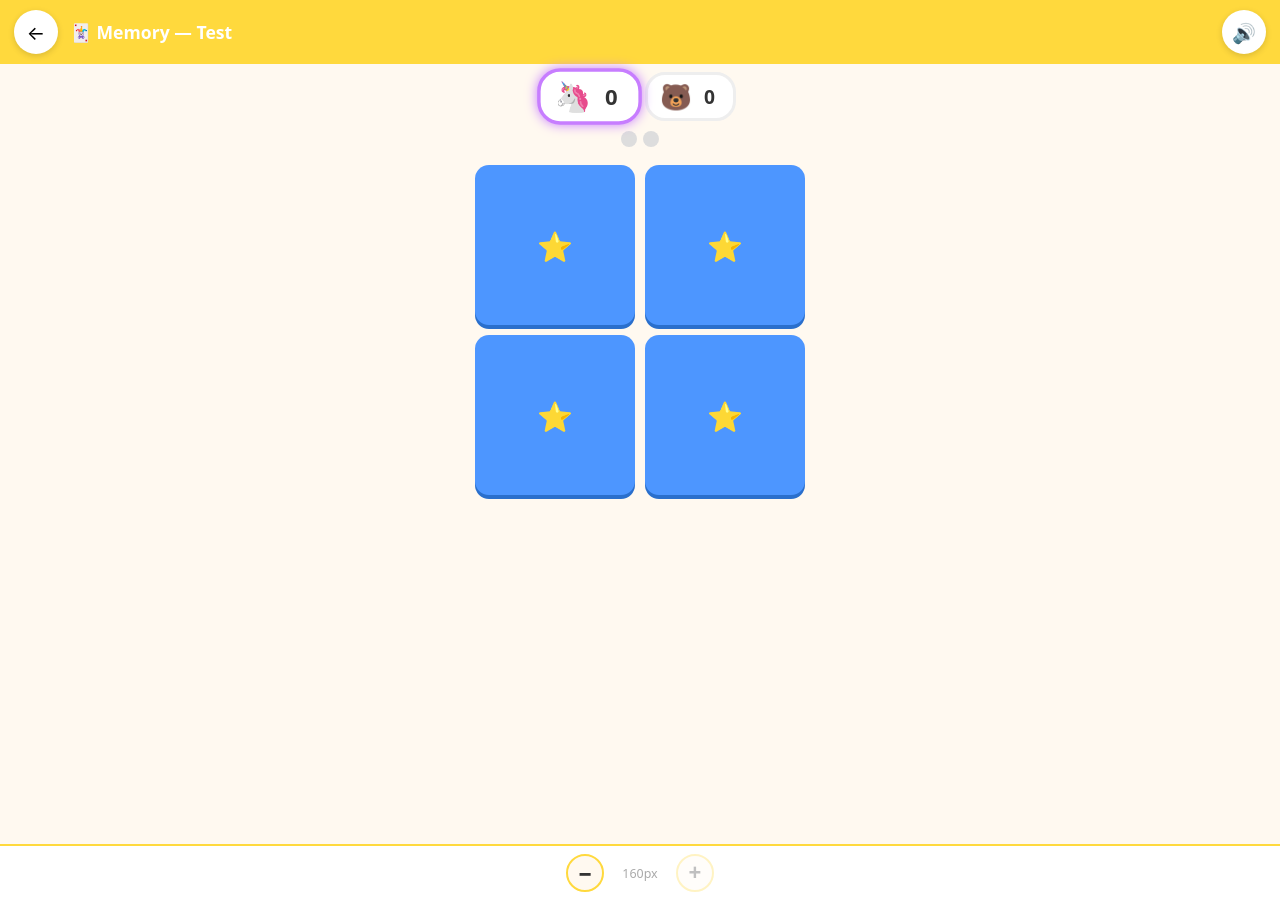
Test: MemoryGame › names the winner at the end
The image size is (1280, 900).
Click the 3rd button "⭐".
click(555, 415)  # box [475,335,635,495]
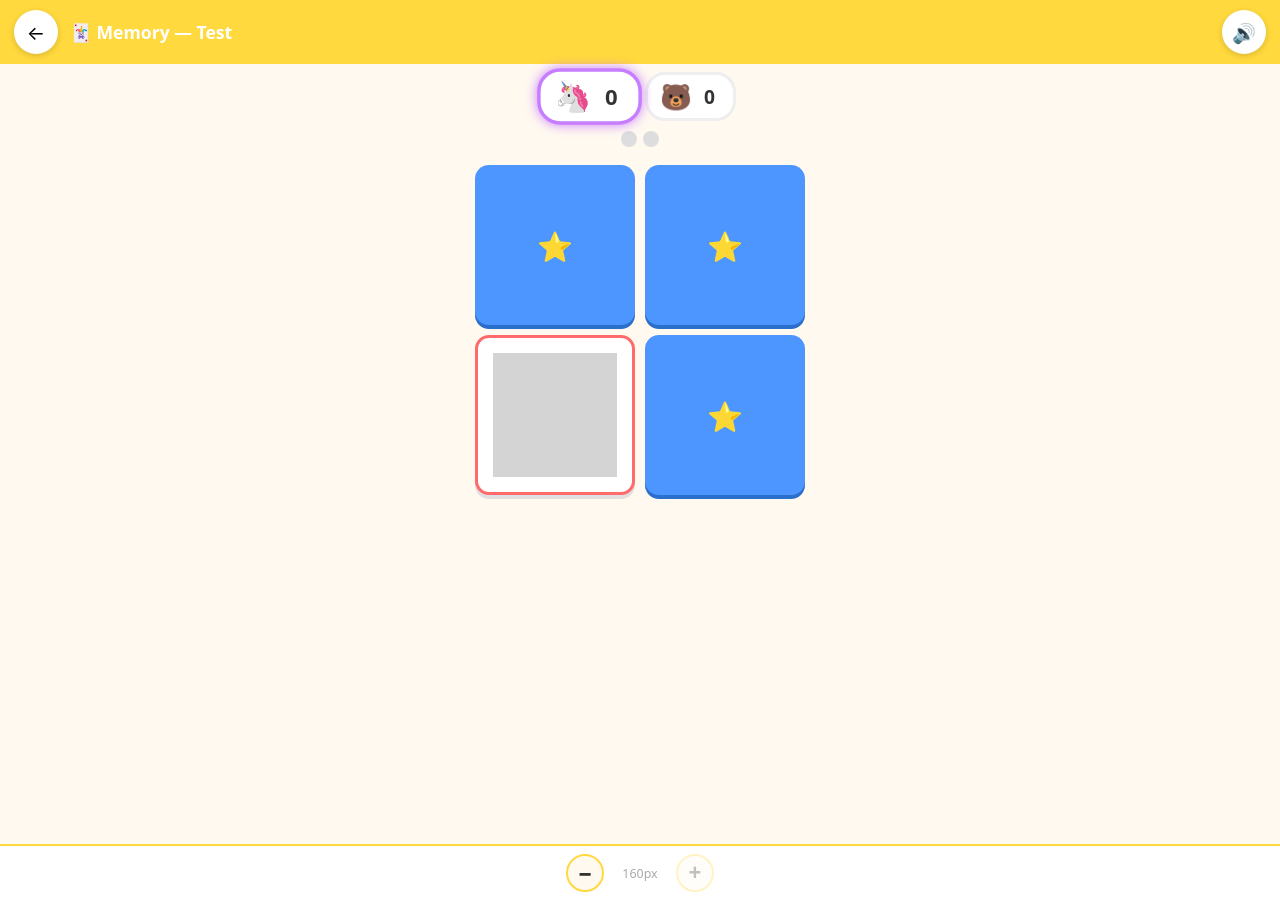
Click the 3rd button "⭐".
click(725, 415)  # box [645,335,805,495]
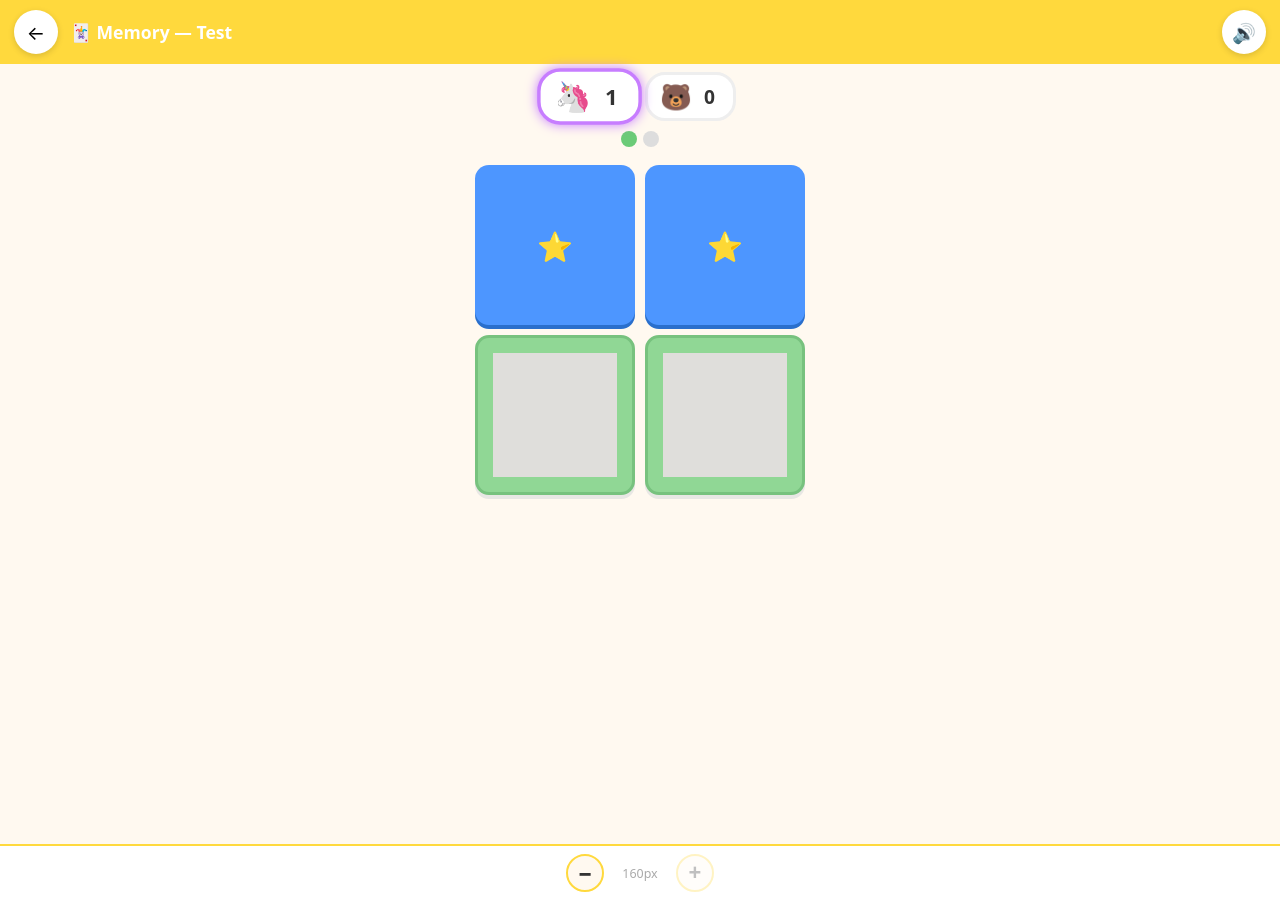
Click the 1st button "⭐".
click(555, 245)  # box [475,165,635,325]
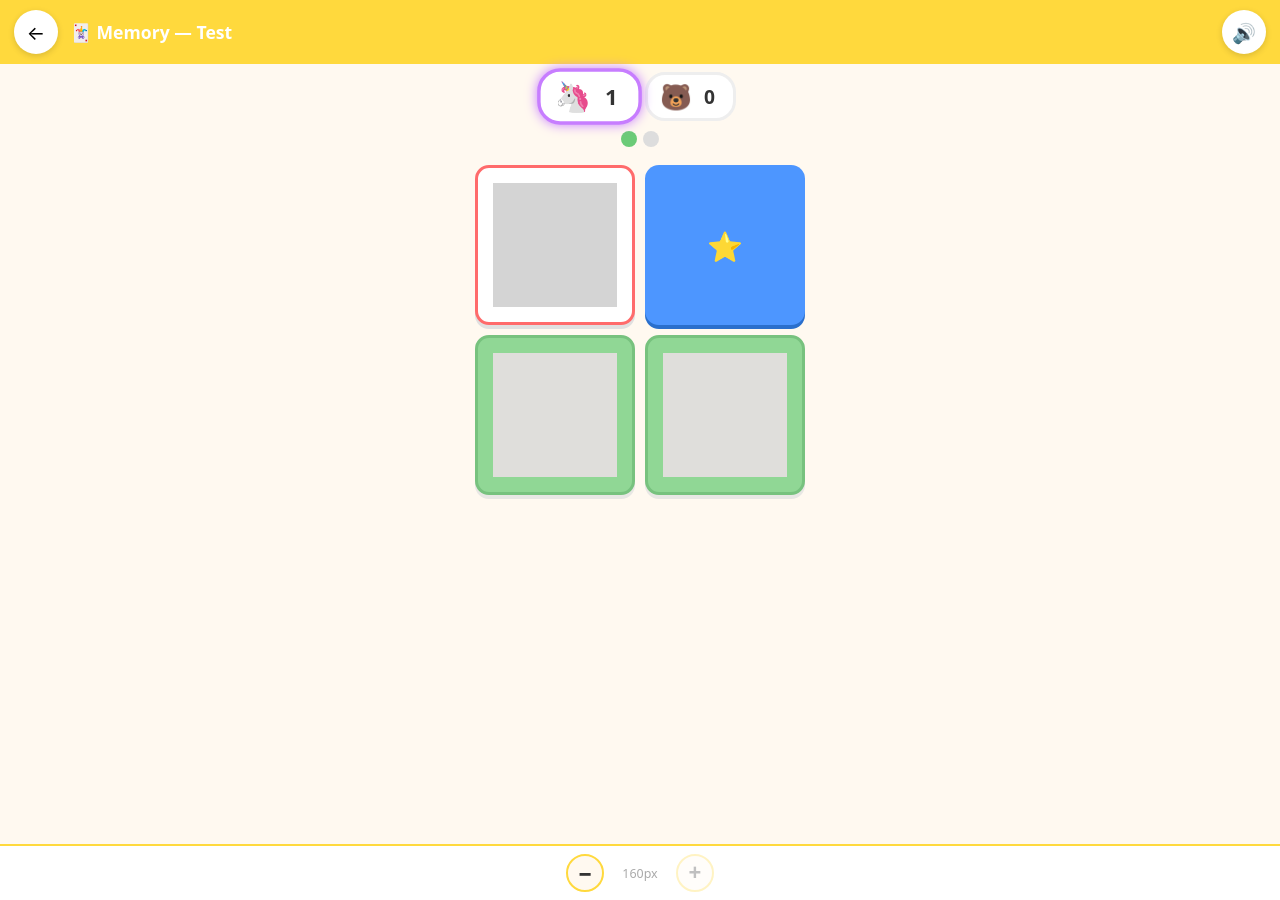
Click the button "⭐".
click(725, 245)  # box [645,165,805,325]
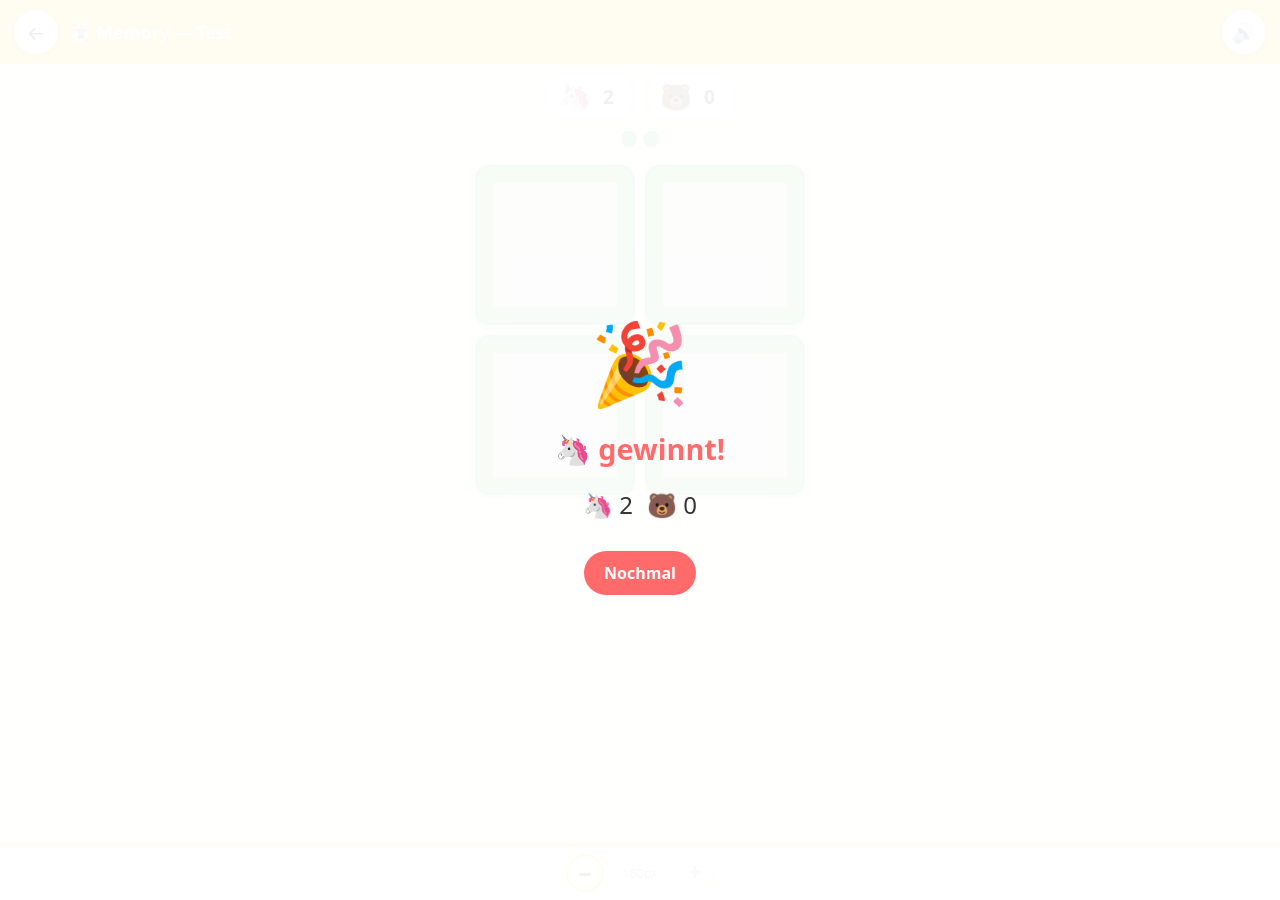
expect the element with class "win-overlay" shows "🦄": met, box [555,428,725,468]
